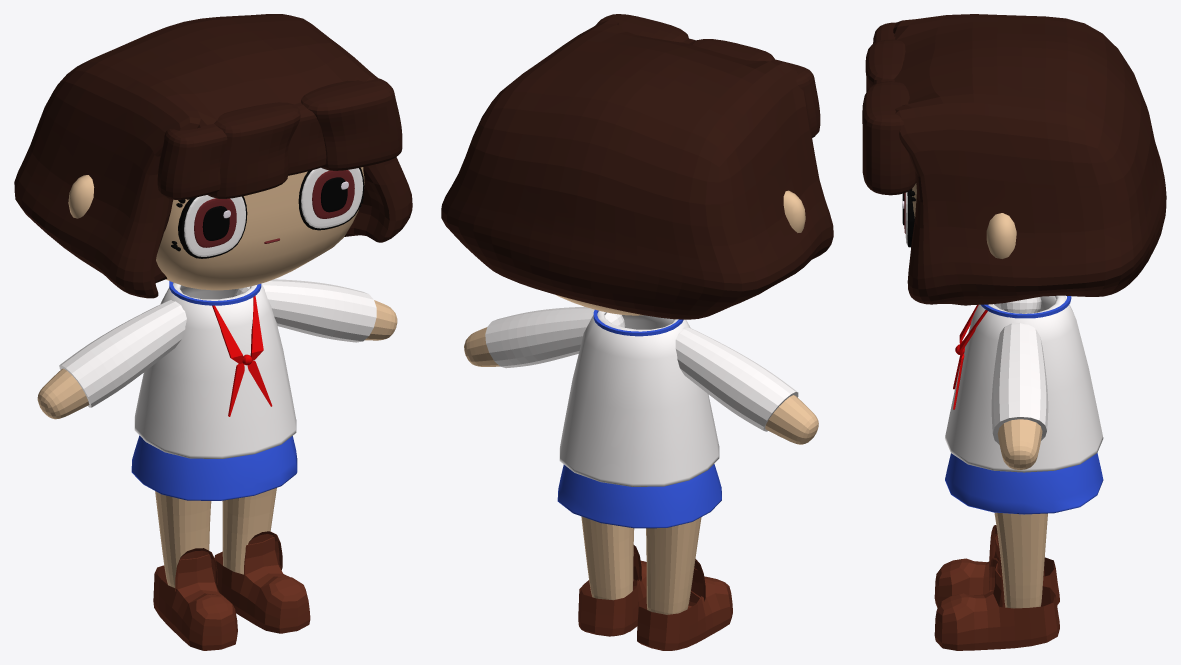
Rendered from menina 1.fbx.
The picture shows the model from 3 angles, left to right: view 1: azimuth 30°, elevation 25°; view 2: azimuth 150°, elevation 25°; view 3: azimuth 270°, elevation 25°; orthographic projection.
Parts seen in each view (by area): view 1: Cabelo.003, Blusa.001, Jaqueta.002, Sapato.002, Cabeca.007, Saia.001, Franja Lado.002, Franja Lado.004, Pernas.005, Franja Lado.003, Olho Todo.008, Bracos.005 (+9 smaller); view 2: Cabelo.003, Blusa.001, Jaqueta.002, Pernas.005, Sapato.002, Saia.001, Bracos.005, Franja Lado.002, Franja Lado.004, Franja Lado.003, Orelhas.005, Aba.001; view 3: Cabelo.003, Blusa.001, Sapato.002, Saia.001, Jaqueta.002, Franja Lado.002, Pernas.005, Bracos.005, Franja Lado.004, Orelhas.005, Aba.001, Circle.
Part boxes in pixels (box(x1,y1,x2,y2)): Cabelo.003: box(14, 14, 412, 298); Blusa.001: box(134, 282, 296, 458); Jaqueta.002: box(59, 279, 376, 407); Sapato.002: box(153, 537, 310, 650); Cabeca.007: box(156, 167, 364, 290); Saia.001: box(131, 435, 297, 500); Franja Lado.002: box(301, 78, 402, 170); Franja Lado.004: box(207, 102, 300, 198); Pernas.005: box(155, 488, 276, 587); Franja Lado.003: box(157, 124, 227, 199); Olho Todo.008: box(184, 167, 363, 256); Bracos.005: box(37, 300, 397, 419); Cabelo.003: box(441, 20, 833, 319); Blusa.001: box(559, 311, 719, 486); Jaqueta.002: box(485, 306, 798, 431); Pernas.005: box(581, 516, 701, 614); Sapato.002: box(578, 553, 732, 650); Saia.001: box(557, 464, 721, 528); Bracos.005: box(464, 327, 818, 444); Franja Lado.002: box(596, 14, 688, 42); Franja Lado.004: box(689, 39, 774, 61); Franja Lado.003: box(772, 59, 820, 137); Orelhas.005: box(783, 190, 805, 232); Aba.001: box(633, 545, 705, 608); Cabelo.003: box(893, 14, 1166, 305); Blusa.001: box(945, 295, 1103, 472); Sapato.002: box(934, 535, 1059, 650); Saia.001: box(945, 453, 1103, 514); Jaqueta.002: box(991, 297, 1048, 444); Franja Lado.002: box(862, 81, 916, 195); Pernas.005: box(994, 512, 1047, 608); Bracos.005: box(997, 419, 1042, 469); Franja Lado.004: box(865, 39, 905, 91); Orelhas.005: box(986, 213, 1016, 258); Aba.001: box(989, 525, 1002, 607); Circle: box(981, 296, 1071, 318).
Bounding box in the file's own units: 112 × 174 × 82.87.
